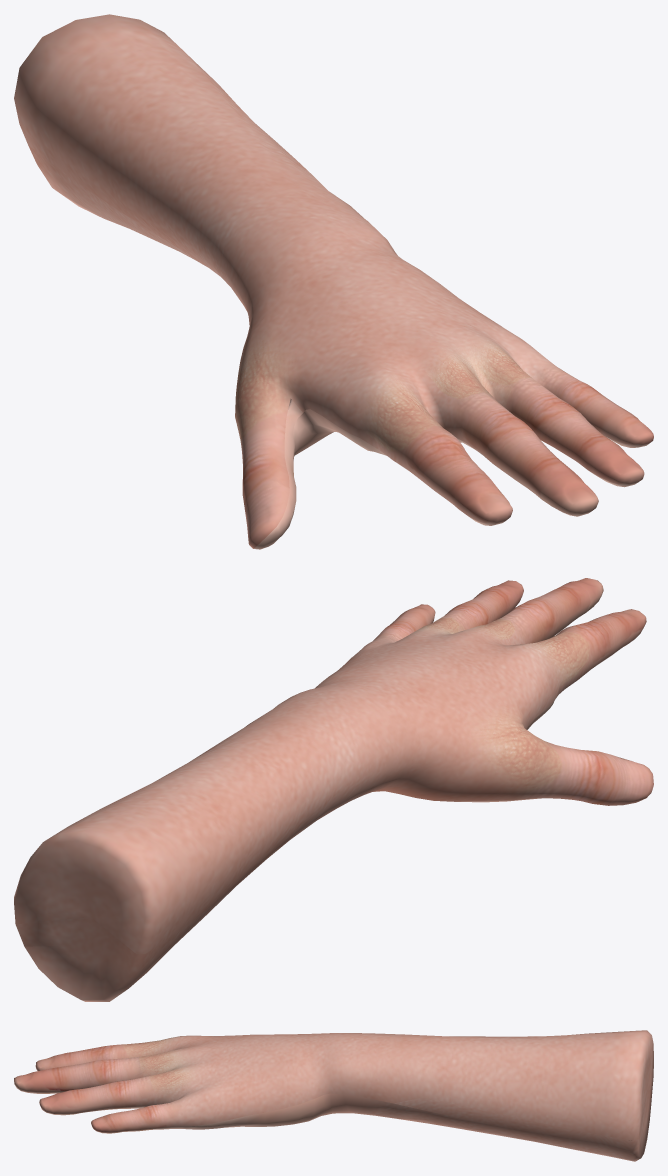
File: Hand.fbx
The picture shows the model from 3 angles, top to bottom: view 1: azimuth 30°, elevation 25°; view 2: azimuth 150°, elevation 25°; view 3: azimuth 270°, elevation 25°; orthographic projection. The views are drawn at different scales.
Parts seen in each view (by area): view 1: Hand; view 2: Hand; view 3: Hand.
Part boxes in pixels (x1=…): Hand: x1=14, y1=14, x2=653, y2=549; Hand: x1=14, y1=578, x2=653, y2=1001; Hand: x1=14, y1=1030, x2=653, y2=1161.
Bounding box in the file's own units: 1135 × 623 × 3138.
1 material, 1 textured.
